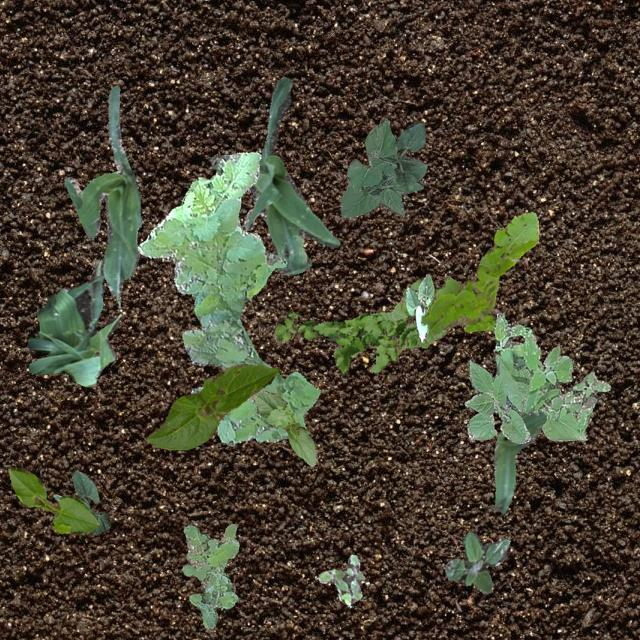crop: (208, 76, 338, 274), (64, 84, 140, 298), (26, 260, 120, 386), (146, 362, 278, 448), (464, 353, 586, 442), (338, 118, 426, 216), (8, 467, 98, 532), (492, 410, 546, 512), (250, 390, 316, 466), (52, 470, 110, 532), (378, 120, 423, 192), (404, 274, 434, 340)
weed: (136, 150, 320, 444), (272, 278, 448, 372), (420, 210, 538, 332), (492, 312, 610, 432), (180, 522, 238, 628), (444, 532, 510, 594), (316, 554, 364, 606)
